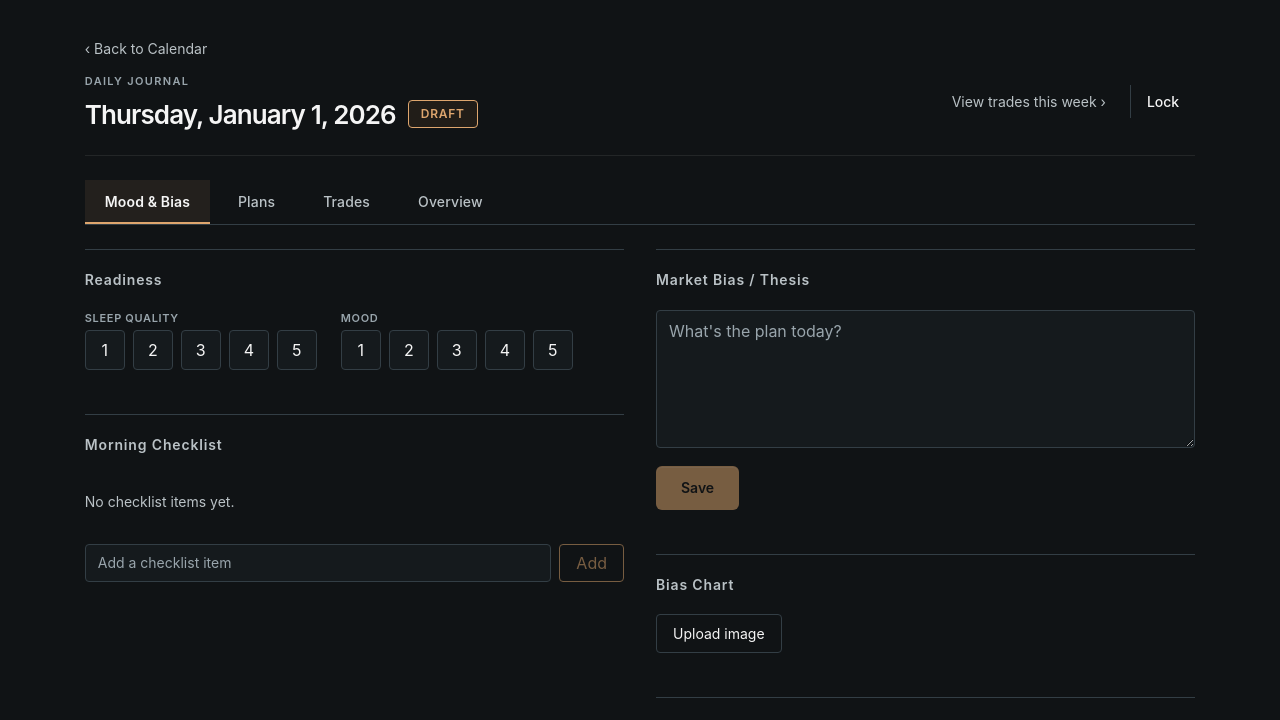
Test: JournalDay tab navigation › lists each logged trade in the Overview recap with its setup and result, excluding canceled trades
The width and height of the screenshot is (1280, 720).
Click the tab with class "day-tab" showing "Overview". click: (450, 202)
box: [398,180,503,224]
(page scrolled)
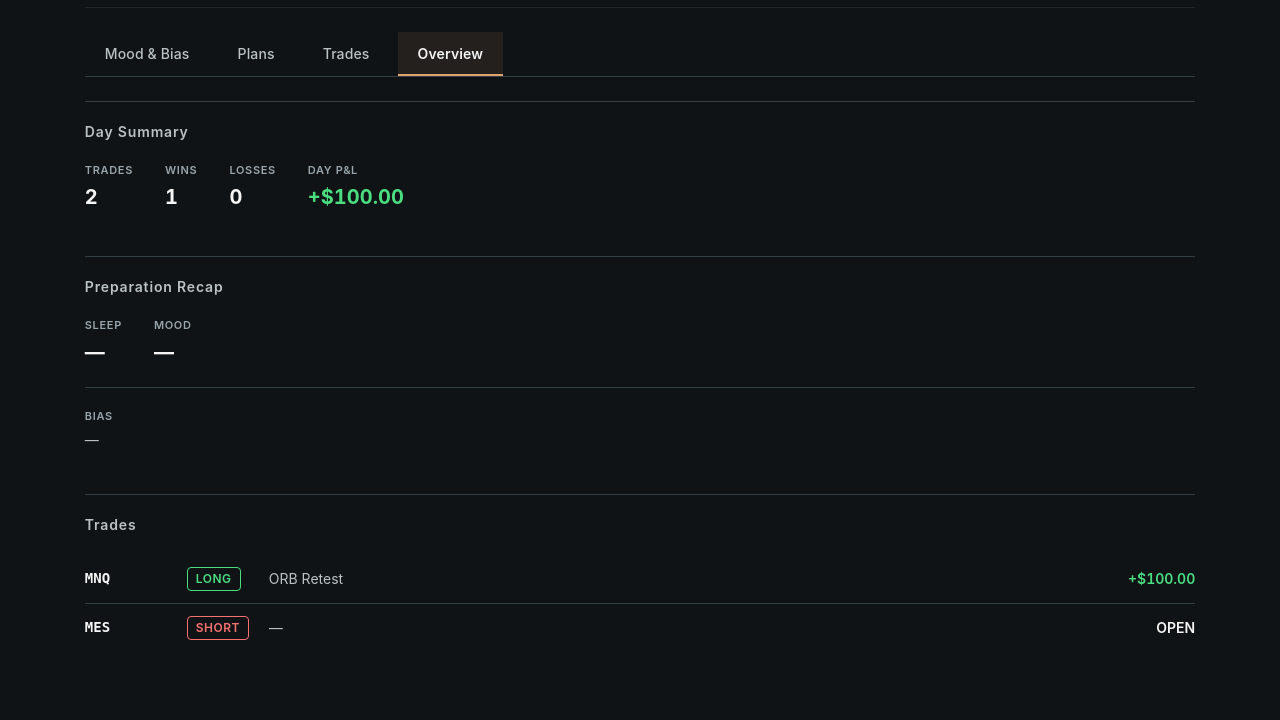
Now the number of list items with class "overview-trade-row" is 2, box [85,555,1195,604]; [85,616,1195,640]
Now the list item with class "overview-trade-row" shows "MNQ", box [85,570,110,586]
Now the list item with class "overview-trade-row" shows "ORB Retest", box [269,570,343,587]
